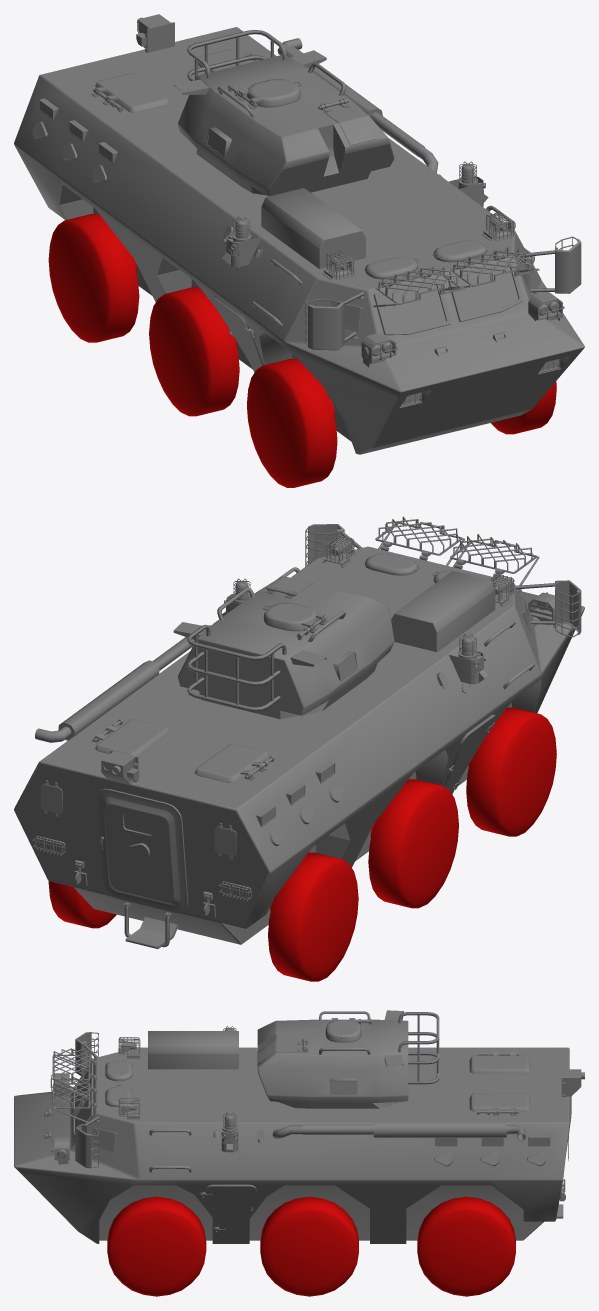
File: 03CAR_zhanShi.fbx
3 renders of one model, top to bottom at view 1: azimuth 30°, elevation 25°; view 2: azimuth 150°, elevation 25°; view 3: azimuth 270°, elevation 25°, orthographic. The views are drawn at different scales.
Parts seen in each view (by area): view 1: waike, luntai02, luntai06, luntai04, luntai01; view 2: waike, luntai04, luntai06, luntai02, luntai05; view 3: waike, luntai01, luntai03, luntai05.
Part boxes in pixels (x1,y1,x2,y2): waike: (14,14,584,454); luntai02: (247,359,337,487); luntai06: (48,214,139,342); luntai04: (149,287,239,416); luntai01: (491,381,556,434); waike: (14,516,584,948); luntai04: (368,779,458,908); luntai06: (268,852,358,981); luntai02: (466,707,556,836); luntai05: (48,881,116,928); waike: (14,1010,584,1243); luntai01: (107,1196,206,1296); luntai03: (260,1196,358,1296); luntai05: (417,1196,515,1296).
Size of the model in its own units: 295 by 295 by 687.
